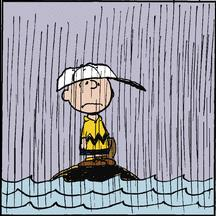charlie: (55, 62, 116, 168)
